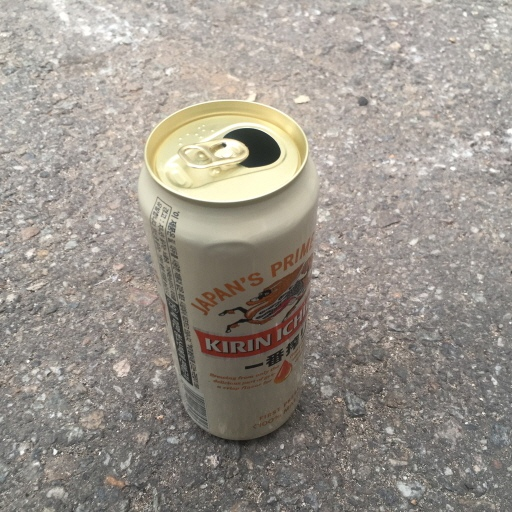Metal_0: (138, 101, 320, 442)
